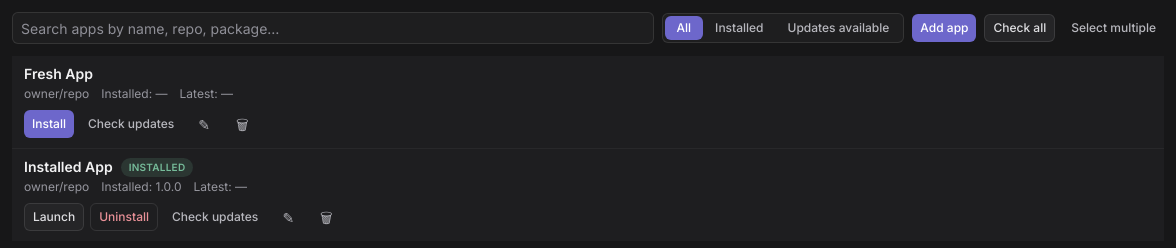
Scenario: AppList › filters the rows to installed apps
Expected: the button "Installed App" is shown, [24,157,113,177]
Click the radio button labelled "Installed" at coordinates (739, 28), box [703,16,776,40]
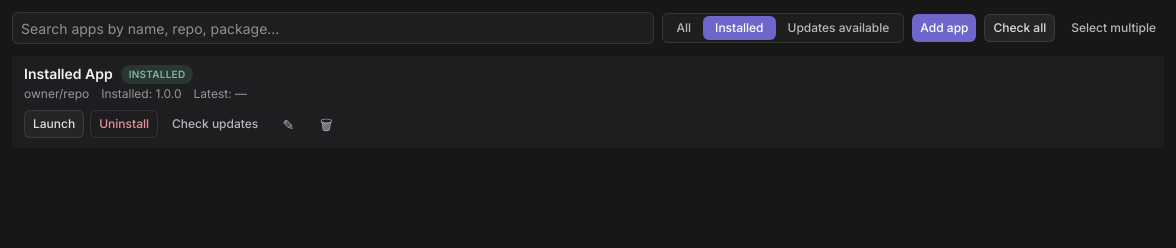
Expected: the button "Installed App" is shown, [24,64,113,84]
Now the button "Fresh App" is gone
